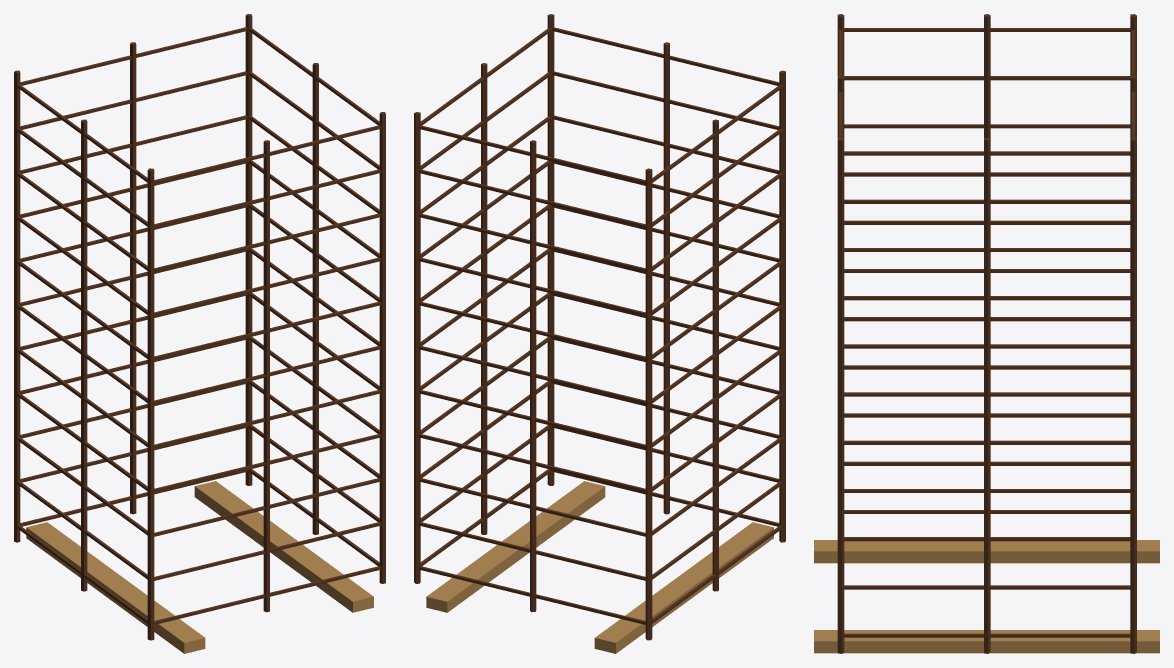
The model's file is gs-rebar-cage.glb.
3 renders of one model, left to right at view 1: azimuth 30°, elevation 25°; view 2: azimuth 150°, elevation 25°; view 3: azimuth 270°, elevation 25°, orthographic. The views are drawn at different scales.
Visible parts, largest first — view 1: gs-rebar-cage; view 2: gs-rebar-cage; view 3: gs-rebar-cage.
Part boxes in pixels (<box>): gs-rebar-cage: <box>14,14,385,653</box>; gs-rebar-cage: <box>414,14,785,653</box>; gs-rebar-cage: <box>814,14,1159,653</box>.
Bounding box in the file's own units: 1.13 × 2.18 × 1.3.
